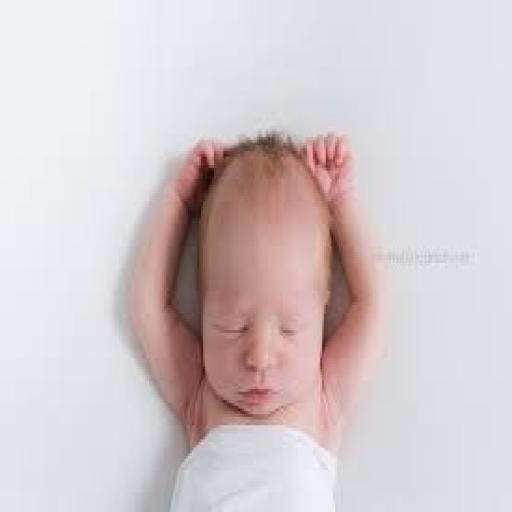sleeping: (124, 126, 382, 509)
